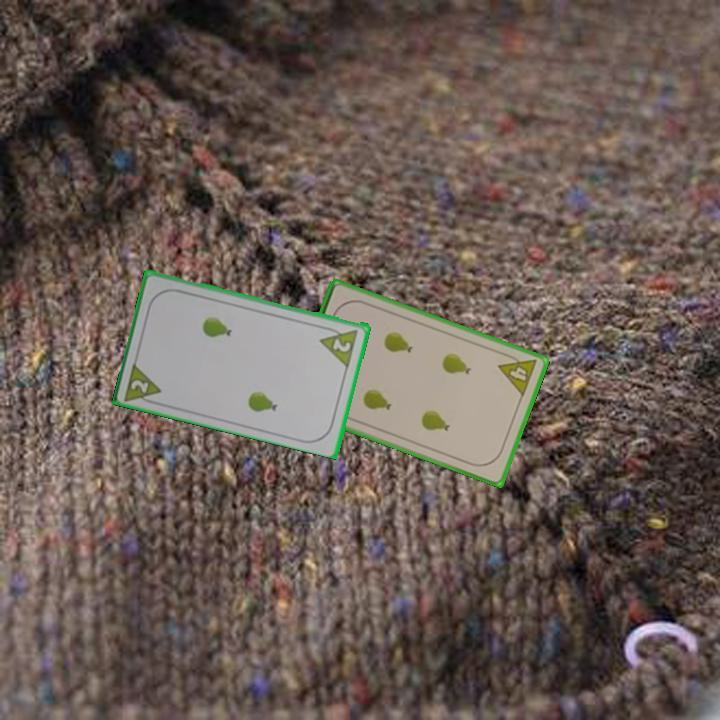2p: (121, 358, 165, 408), (317, 322, 361, 369)
4p: (495, 349, 540, 399)
